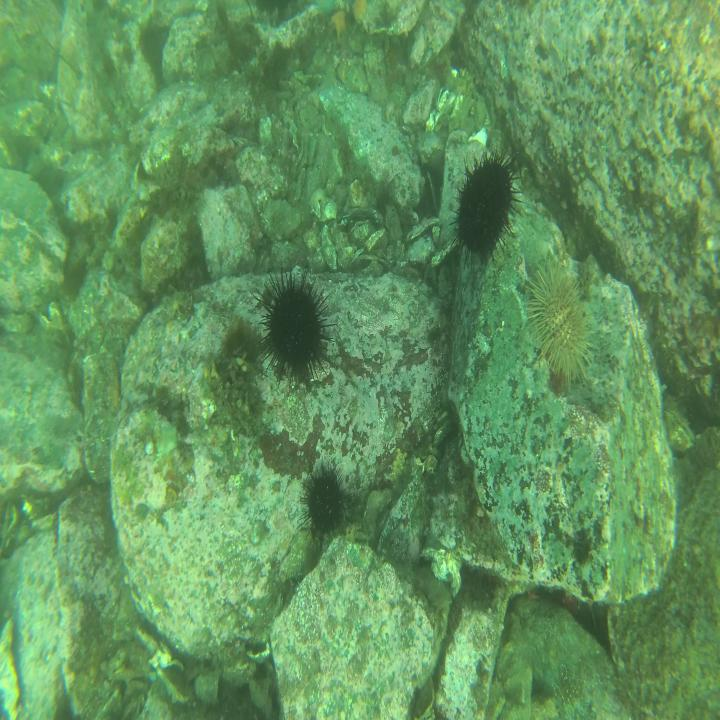echinus: (525, 260, 589, 382), (260, 271, 328, 384), (456, 150, 515, 260), (300, 466, 345, 542)
